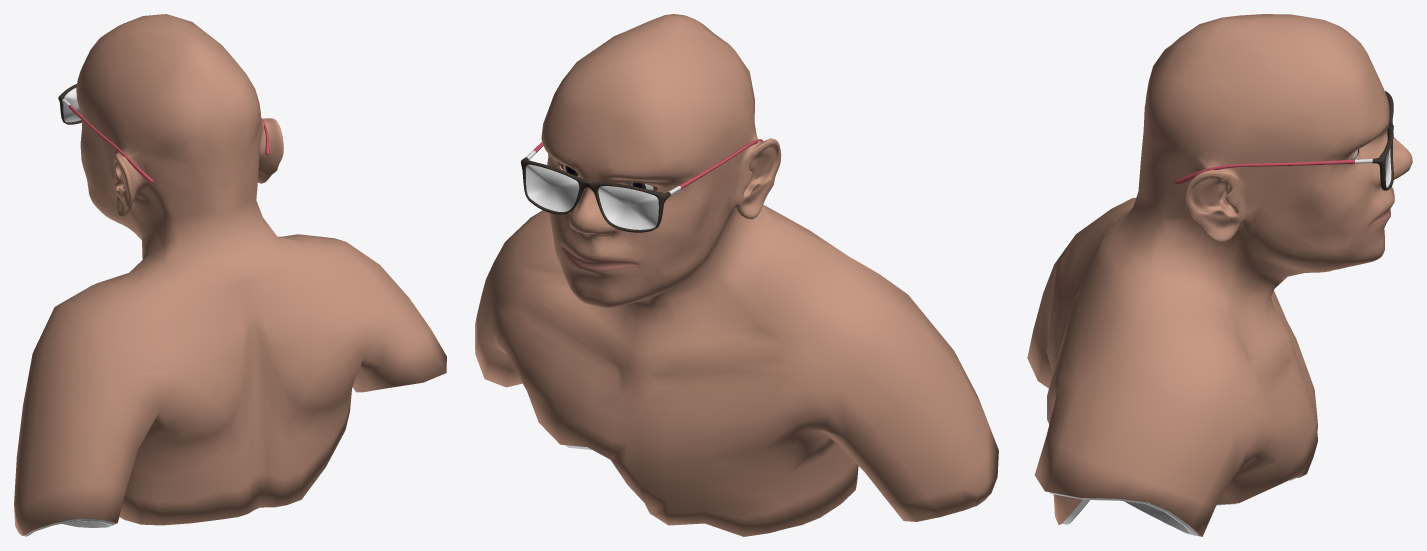
File: RafHeadCyber.fbx
3 renders of one model, left to right at view 1: azimuth 30°, elevation 25°; view 2: azimuth 150°, elevation 25°; view 3: azimuth 270°, elevation 25°, orthographic. The views are drawn at different scales.
Visible parts, largest first — view 1: head, glassess; view 2: head, glassess; view 3: head, glassess.
Boxes of the visible parts, x1,y1,x2,y2 form: head: (14,14,446,536); glassess: (58,84,269,183); head: (475,14,998,536); glassess: (521,139,763,232); head: (1027,14,1412,536); glassess: (1175,91,1393,190).
Bounding box in the file's own units: 505 × 480 × 346.
